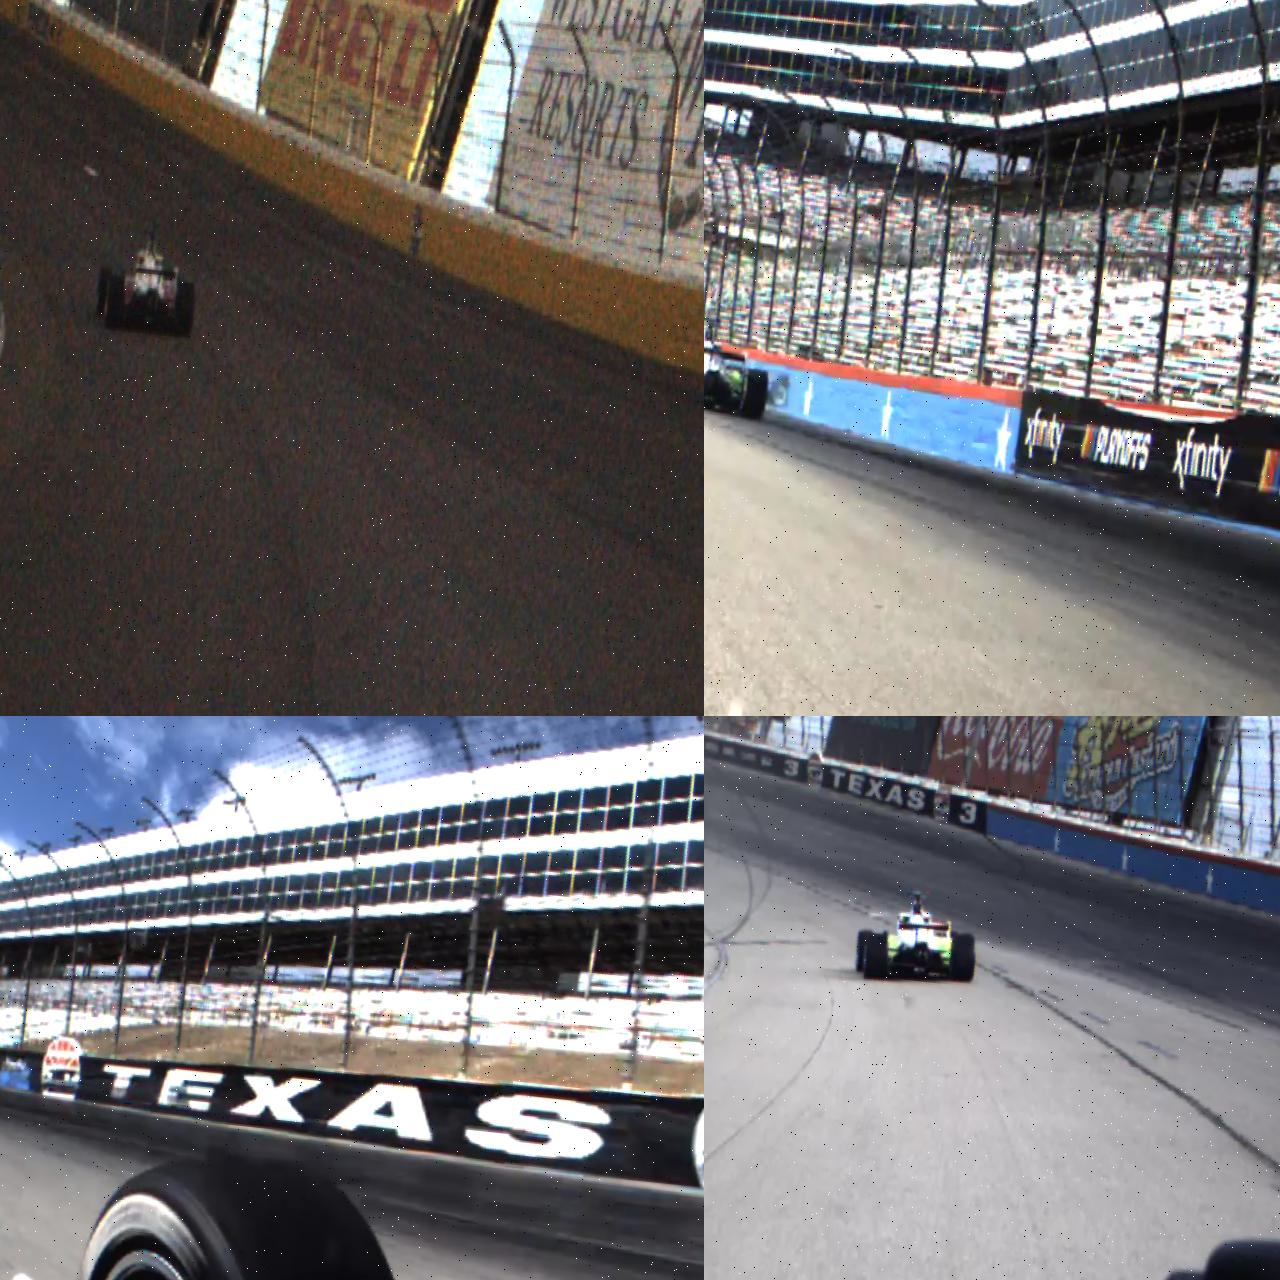AV: (852, 884, 982, 990), (94, 222, 204, 340), (704, 311, 774, 422)
Wheel: (33, 1142, 445, 1280), (741, 367, 769, 421), (102, 274, 128, 332), (172, 281, 197, 340), (949, 933, 978, 983), (863, 932, 888, 980), (95, 265, 114, 318), (855, 930, 873, 973)
